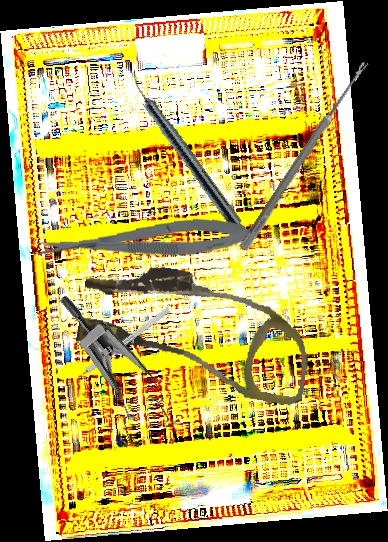Cannula: (71, 255, 319, 408)
Handpiece: (121, 68, 255, 242)
Hook Surgical: (66, 306, 171, 388)
Micro Scissor: (36, 214, 255, 264)
Speculum: (15, 293, 200, 459)
Surgical Spoon: (239, 58, 370, 253)
